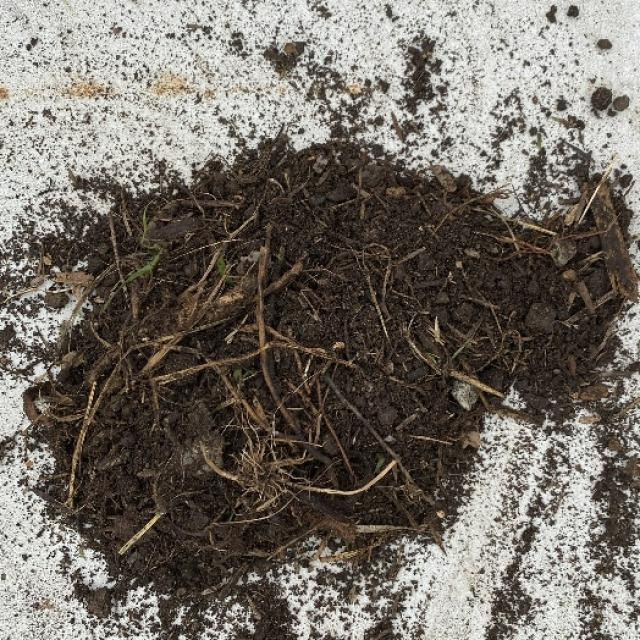organik: (45, 153, 578, 573)
